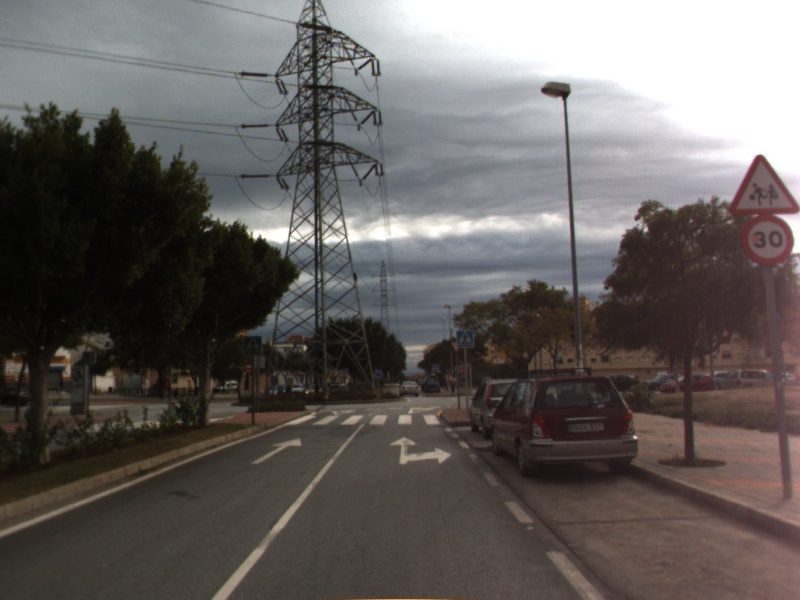STRAIGHT: (248, 436, 304, 466)
STRAIGHT_RIGHT: (387, 434, 454, 466)
